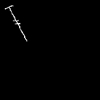treble_crochet: (5, 7, 25, 38)
